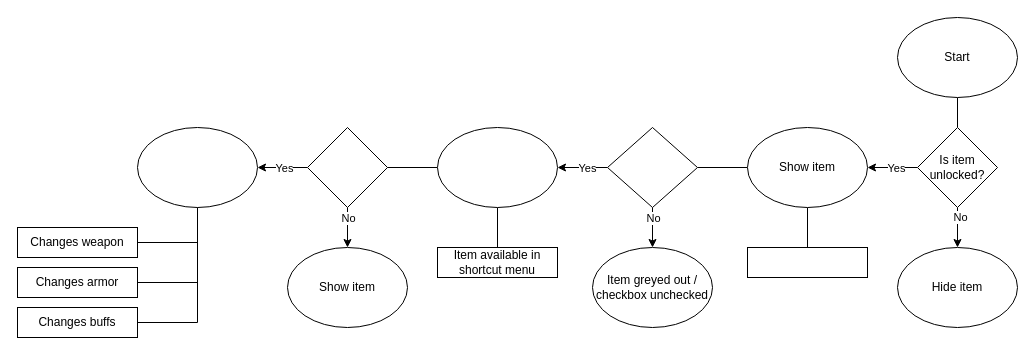
Image size: 1035x355. Some labels were removed from this diagram. The centre of each missing label's shape, as x and y in pixels:
"Changes state" goes at (x=807, y=262).
"Is item active?" goes at (x=652, y=167).
"Is item selected?" goes at (x=347, y=167).
"Item full colour / checkbox checked" goes at (x=497, y=167).
"Show item configuration menu" goes at (x=197, y=167).
